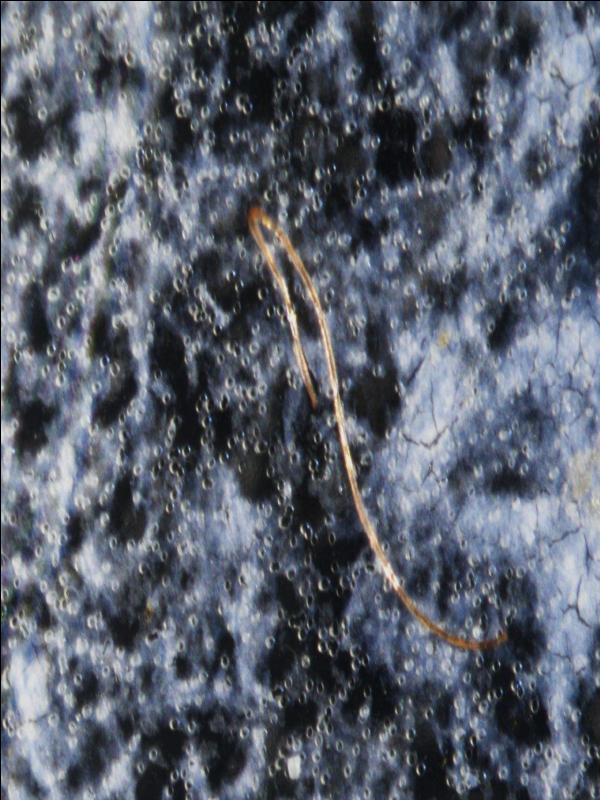microplastic: (2, 3, 599, 799), (246, 201, 508, 655)
